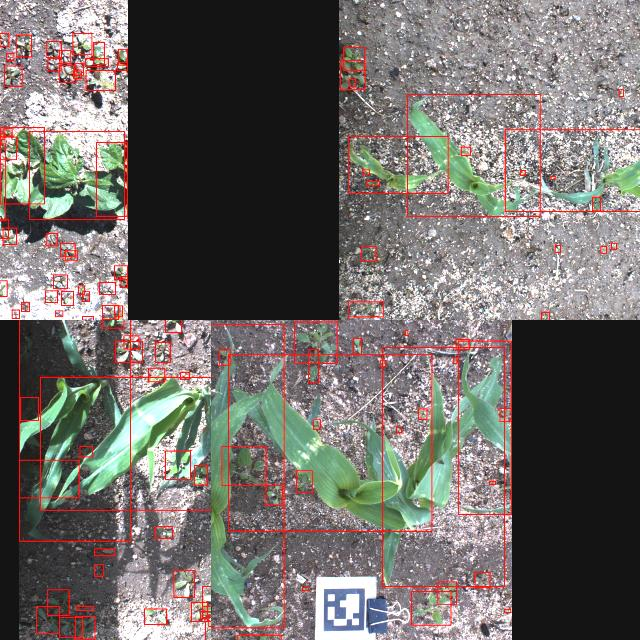crop: (228, 354, 432, 532), (382, 348, 504, 586), (18, 320, 129, 541), (39, 377, 211, 510), (211, 324, 284, 627), (406, 94, 540, 216), (504, 130, 640, 212), (458, 342, 512, 514), (29, 132, 125, 220), (348, 136, 448, 194), (1, 128, 45, 204), (96, 142, 128, 216)
weed: (19, 460, 79, 498), (221, 446, 265, 486), (294, 322, 336, 362), (411, 591, 451, 625), (340, 60, 364, 90), (166, 450, 190, 480), (36, 606, 58, 634), (86, 70, 116, 90), (174, 570, 194, 598), (115, 342, 142, 362), (48, 590, 68, 614), (75, 616, 95, 640), (58, 617, 82, 637), (348, 302, 382, 316), (344, 48, 364, 70), (438, 582, 457, 604), (20, 398, 38, 420), (72, 34, 91, 54), (0, 136, 16, 159), (4, 66, 22, 86), (16, 35, 32, 57), (144, 608, 166, 624), (296, 471, 312, 493), (191, 602, 207, 622), (308, 350, 318, 382), (266, 485, 282, 505), (156, 342, 170, 362), (194, 465, 208, 485), (46, 41, 62, 57), (60, 66, 76, 82), (102, 304, 118, 320), (360, 246, 376, 262), (94, 42, 105, 64), (3, 228, 17, 245), (202, 586, 211, 611), (148, 368, 164, 382), (476, 572, 490, 588), (154, 526, 172, 538), (114, 265, 128, 279), (53, 275, 67, 289), (100, 282, 116, 294), (60, 244, 76, 256), (165, 320, 181, 332), (218, 349, 230, 365), (85, 58, 108, 66), (102, 320, 124, 328), (62, 291, 74, 305), (124, 336, 138, 348), (500, 408, 512, 422), (118, 49, 128, 65), (94, 548, 114, 556), (48, 58, 61, 70), (0, 219, 8, 238), (45, 291, 57, 303), (46, 234, 58, 246), (60, 50, 70, 64), (456, 339, 469, 349), (353, 338, 361, 354), (65, 251, 77, 261), (80, 446, 92, 456), (205, 621, 211, 640), (0, 33, 8, 47), (592, 197, 600, 211), (74, 64, 84, 74), (418, 409, 428, 419), (202, 606, 211, 617), (120, 276, 128, 288), (0, 281, 6, 297), (94, 564, 102, 576), (72, 71, 82, 79), (118, 63, 128, 71), (115, 306, 123, 316), (82, 292, 90, 302), (22, 302, 30, 312), (460, 147, 470, 155), (180, 372, 190, 380), (366, 180, 379, 186), (541, 311, 549, 320), (76, 606, 94, 610), (12, 310, 20, 318), (4, 128, 12, 136), (200, 611, 208, 619), (314, 419, 320, 429), (6, 54, 14, 60), (78, 286, 84, 294), (55, 311, 63, 317), (82, 316, 93, 320), (520, 170, 526, 176), (349, 80, 355, 86), (618, 90, 624, 96), (380, 360, 386, 366), (612, 242, 616, 250), (602, 246, 606, 254), (362, 170, 370, 174), (0, 134, 5, 140), (556, 245, 560, 252), (453, 357, 457, 363), (396, 428, 402, 432), (505, 609, 511, 613), (551, 177, 555, 180), (406, 330, 408, 336), (489, 482, 495, 484), (302, 588, 308, 590)
